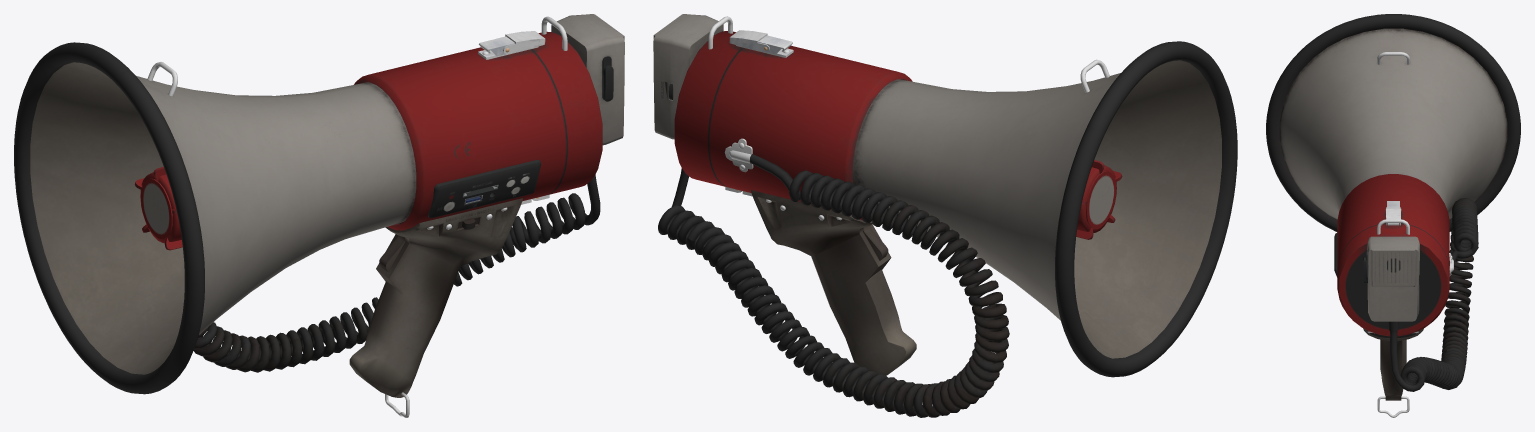
Rendered from Megaphone_01.glb.
The picture shows the model from 3 angles, left to right: view 1: azimuth 30°, elevation 25°; view 2: azimuth 150°, elevation 25°; view 3: azimuth 270°, elevation 25°; orthographic projection. The views are drawn at different scales.
Parts seen in each view (by area): view 1: Megaphone_01; view 2: Megaphone_01; view 3: Megaphone_01.
Boxes of the visible parts, x1=… form: Megaphone_01: x1=14, y1=14, x2=624, y2=417; Megaphone_01: x1=653, y1=14, x2=1237, y2=417; Megaphone_01: x1=1266, y1=14, x2=1520, y2=417.
Size of the model in its own units: 0.3707 by 0.3001 by 0.2285.
1 material, 1 textured.
